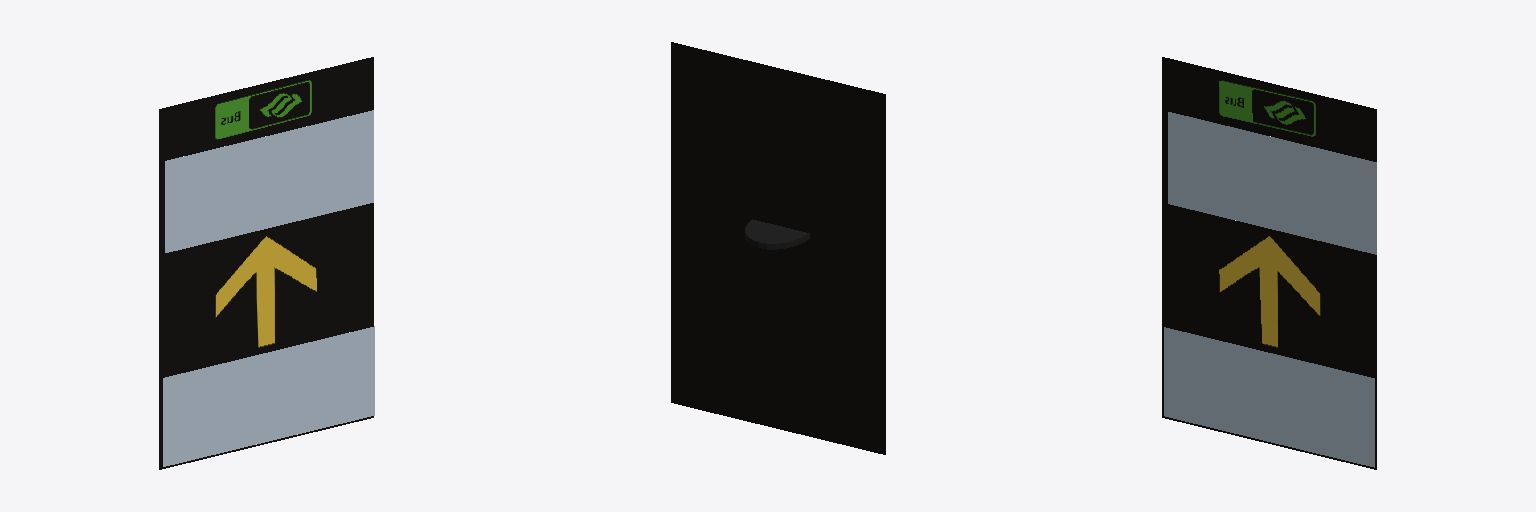
3 views of the same model, side by side, from view 1: azimuth 30°, elevation 25°; view 2: azimuth 150°, elevation 25°; view 3: azimuth 330°, elevation 25° (orthographic).
Parts seen in each view (by area): view 1: Mesh1 Group1 Model, Mesh3 Group2 Model, Mesh5 Group3 Model; view 2: Mesh1 Group1 Model, Mesh7 Component_16_1 Model; view 3: Mesh1 Group1 Model, Mesh3 Group2 Model, Mesh5 Group3 Model.
Part boxes in pixels (left/top/right/bottom): Mesh1 Group1 Model: left=159, top=57, right=373, bottom=469; Mesh3 Group2 Model: left=165, top=110, right=373, bottom=252; Mesh5 Group3 Model: left=163, top=326, right=374, bottom=466; Mesh1 Group1 Model: left=671, top=42, right=885, bottom=454; Mesh7 Component_16_1 Model: left=745, top=219, right=809, bottom=249; Mesh1 Group1 Model: left=1162, top=57, right=1376, bottom=469; Mesh3 Group2 Model: left=1168, top=112, right=1376, bottom=254; Mesh5 Group3 Model: left=1164, top=327, right=1374, bottom=467.
Bounding box in the file's own units: 1.03 × 1.65 × 0.1973.
Materials: 9 (3 with a texture image).